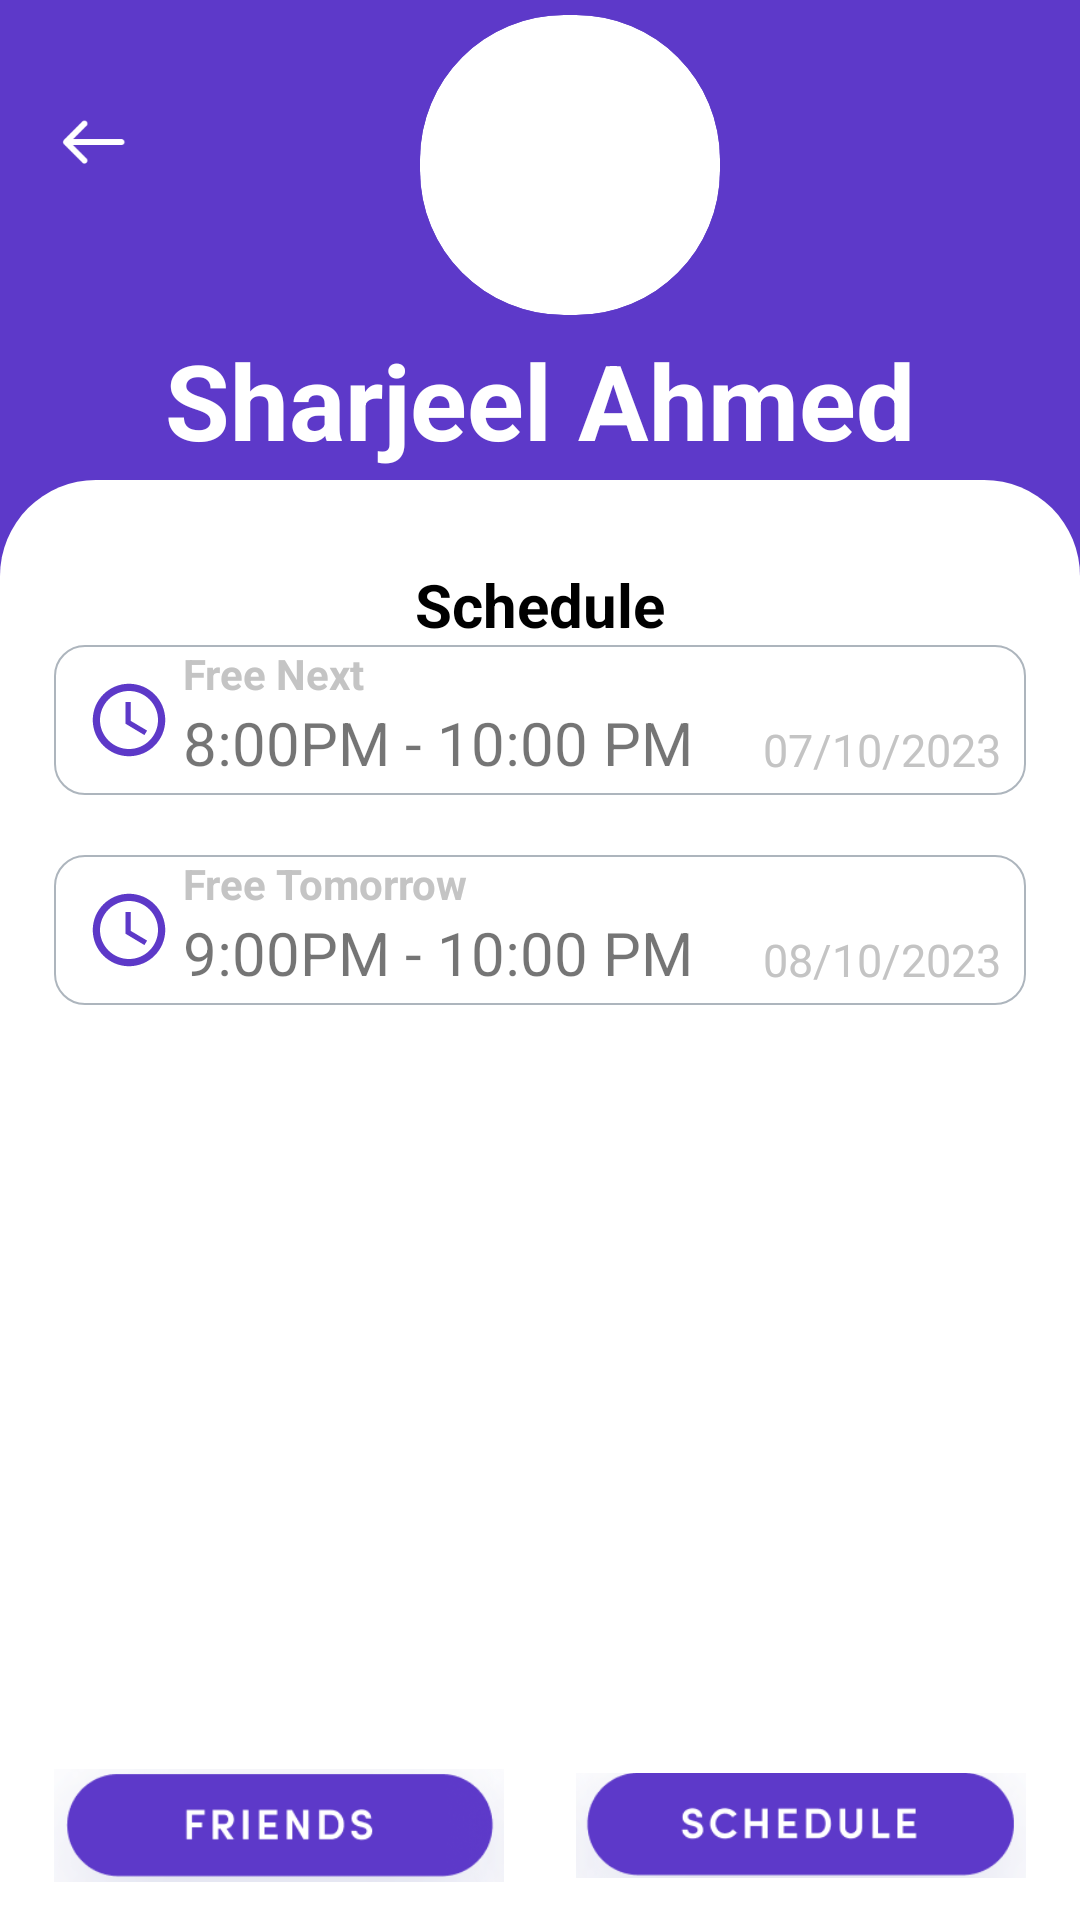

Icon bounding boxes for this 1080*1920 phone screenshot, format bbox=(x1, y1, x2, y2):
back arrow: bbox=(63, 120, 125, 164)
